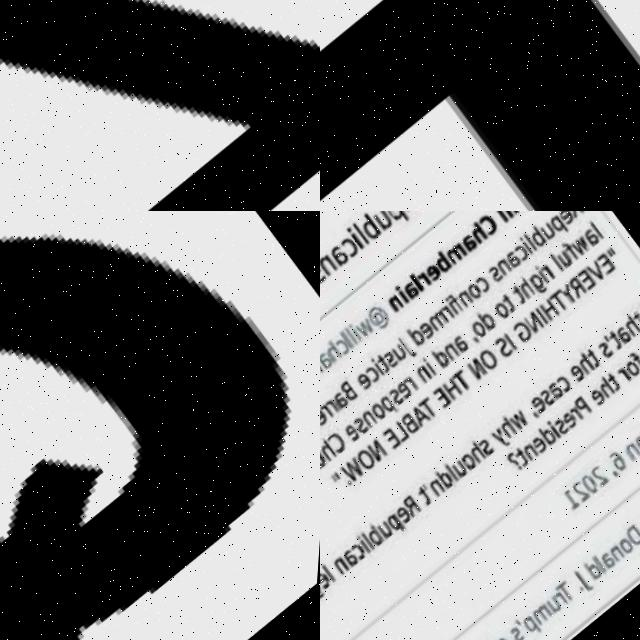0: (584, 484, 608, 509)
1: (565, 497, 589, 524)
2: (594, 475, 617, 501), (575, 490, 598, 516)
6: (612, 461, 635, 487)
A: (329, 248, 355, 276), (412, 409, 437, 436), (460, 240, 484, 266), (403, 286, 426, 311), (550, 389, 572, 414), (334, 395, 356, 419), (505, 257, 526, 281), (454, 341, 475, 364), (604, 561, 625, 584), (583, 237, 603, 260), (617, 337, 637, 359), (347, 554, 366, 577), (320, 355, 338, 376)
B: (356, 214, 386, 249), (432, 257, 456, 284), (527, 234, 551, 260), (369, 529, 392, 556), (342, 385, 365, 411), (403, 419, 425, 444)
C: (477, 220, 503, 249), (328, 434, 354, 463), (341, 240, 364, 266), (558, 383, 579, 407), (513, 251, 534, 274), (337, 342, 357, 364), (476, 283, 496, 304), (368, 371, 386, 391), (356, 548, 374, 568), (320, 461, 324, 483)
D: (478, 315, 502, 341), (408, 330, 431, 357), (541, 432, 564, 458), (589, 569, 612, 595), (433, 353, 456, 378), (439, 474, 462, 499), (628, 534, 640, 563)
E: (345, 427, 370, 453), (434, 393, 458, 419), (385, 433, 409, 458), (597, 263, 620, 288), (578, 278, 601, 303), (425, 269, 448, 293), (532, 404, 555, 428), (570, 373, 592, 397), (563, 420, 585, 444), (591, 398, 613, 422), (320, 574, 341, 599), (420, 326, 441, 350), (358, 376, 379, 399), (399, 511, 420, 534), (398, 386, 418, 409), (535, 444, 555, 467), (559, 216, 579, 237), (320, 411, 335, 436), (395, 211, 421, 222)
F: (449, 299, 470, 323), (562, 249, 582, 274), (630, 361, 640, 386)
G: (513, 327, 539, 356), (529, 281, 553, 308), (320, 583, 334, 608)
H: (539, 306, 565, 335), (444, 384, 468, 412), (320, 441, 343, 468), (518, 284, 541, 311), (469, 448, 493, 473), (468, 229, 491, 255), (325, 345, 348, 371), (577, 361, 600, 387), (598, 386, 621, 412), (501, 424, 522, 449), (622, 324, 640, 350)
I: (347, 231, 368, 257), (395, 290, 414, 313), (372, 363, 391, 385), (424, 363, 442, 385), (446, 304, 463, 326), (536, 273, 553, 295), (351, 329, 368, 350), (520, 245, 537, 266), (536, 316, 553, 337), (551, 429, 568, 450), (362, 541, 378, 562), (506, 341, 522, 361), (505, 211, 522, 225)
J: (578, 577, 603, 607), (400, 340, 423, 367)
L: (394, 427, 416, 451), (353, 227, 373, 252), (549, 262, 568, 284), (411, 279, 429, 302), (598, 566, 616, 588), (590, 230, 607, 252), (346, 332, 363, 353), (448, 471, 465, 492), (326, 568, 343, 589), (495, 213, 512, 233), (343, 335, 359, 356), (525, 243, 541, 264), (365, 537, 381, 558), (500, 211, 516, 229)
M: (536, 612, 562, 638), (446, 249, 471, 275), (429, 317, 453, 342), (320, 363, 330, 389)
N: (468, 364, 494, 393), (525, 319, 550, 346), (370, 444, 394, 470), (320, 257, 343, 284), (432, 484, 453, 508), (387, 299, 407, 321), (497, 266, 517, 288), (445, 348, 465, 370), (613, 555, 633, 577), (338, 561, 357, 584), (458, 298, 478, 319), (417, 371, 437, 392), (527, 452, 546, 472), (365, 415, 383, 436), (627, 452, 640, 474)
O: (357, 452, 384, 481), (479, 354, 505, 383), (472, 327, 493, 350), (494, 309, 514, 331), (464, 460, 484, 482), (622, 546, 640, 570), (467, 290, 487, 311), (373, 408, 393, 429), (627, 369, 640, 392)
P: (383, 211, 412, 236), (549, 224, 573, 250), (381, 400, 404, 426), (576, 405, 599, 431), (391, 518, 413, 544), (528, 624, 551, 640)
Q: (0, 211, 320, 640)
R: (404, 500, 429, 528), (567, 286, 591, 312), (565, 211, 588, 231), (322, 407, 340, 428), (418, 279, 436, 299), (572, 416, 590, 436), (621, 378, 638, 398), (442, 312, 459, 331), (542, 273, 559, 292), (406, 382, 423, 401), (559, 601, 576, 620), (329, 404, 345, 422)
S: (389, 392, 411, 417), (495, 345, 517, 370), (556, 426, 576, 450), (488, 273, 508, 294), (355, 421, 375, 442), (599, 351, 619, 372), (542, 398, 561, 420), (385, 357, 403, 377), (482, 447, 500, 467), (320, 266, 331, 293), (515, 633, 534, 640)
T: (320, 0, 640, 211), (548, 297, 576, 328), (420, 402, 447, 431), (453, 375, 479, 404), (561, 588, 585, 616), (607, 338, 629, 364), (510, 292, 532, 317), (377, 358, 398, 383), (420, 492, 441, 517), (586, 357, 607, 381), (516, 455, 537, 479), (502, 300, 522, 323), (608, 383, 628, 406), (633, 322, 640, 344), (320, 416, 325, 437)
U: (373, 214, 398, 241), (393, 348, 414, 372), (381, 526, 402, 549), (540, 231, 560, 253), (455, 467, 475, 489), (557, 259, 577, 280), (551, 606, 570, 627), (320, 454, 332, 475)
V: (586, 269, 613, 298)
W: (344, 461, 372, 492), (356, 322, 379, 347), (571, 244, 594, 269), (513, 418, 536, 443), (508, 211, 539, 222)
Y: (494, 436, 518, 462), (560, 293, 582, 318)
Z: (0, 0, 320, 211)
